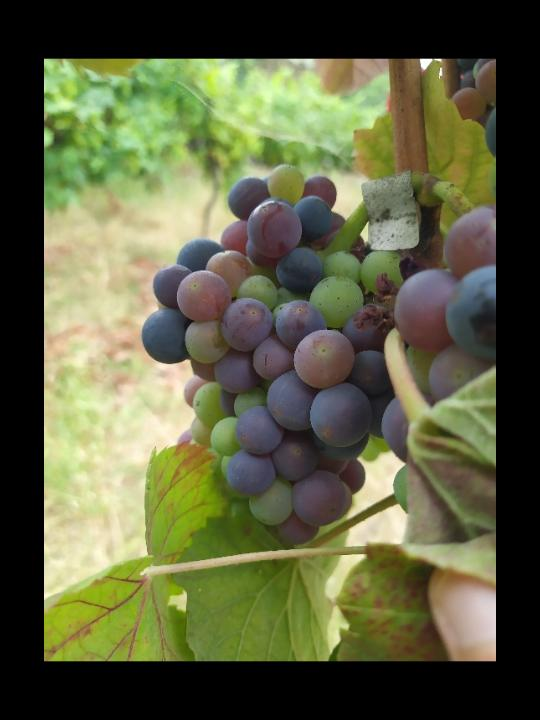grape: (138, 161, 391, 548)
